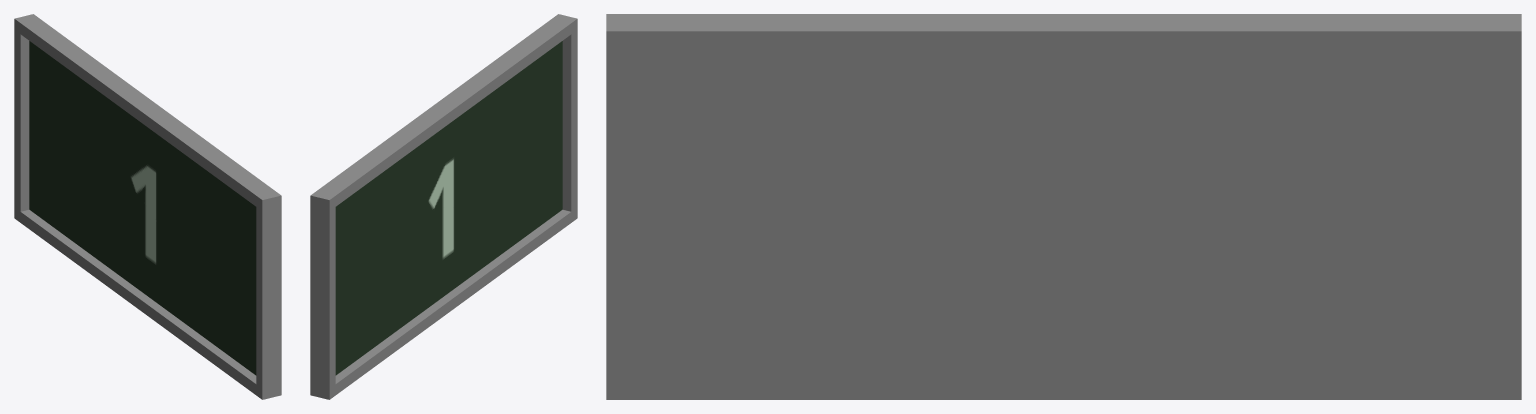
File: numberSign.fbx
3 renders of one model, left to right at view 1: azimuth 30°, elevation 25°; view 2: azimuth 150°, elevation 25°; view 3: azimuth 270°, elevation 25°, orthographic. The views are drawn at different scales.
Parts seen in each view (by area): view 1: Cube.001; view 2: Cube.001; view 3: Cube.001.
Part boxes in pixels (x1,y1,x2,y2): Cube.001: (14,14,281,399); Cube.001: (310,14,577,399); Cube.001: (606,14,1521,399).
Bounding box in the file's own units: 7.8 × 78 × 176.
